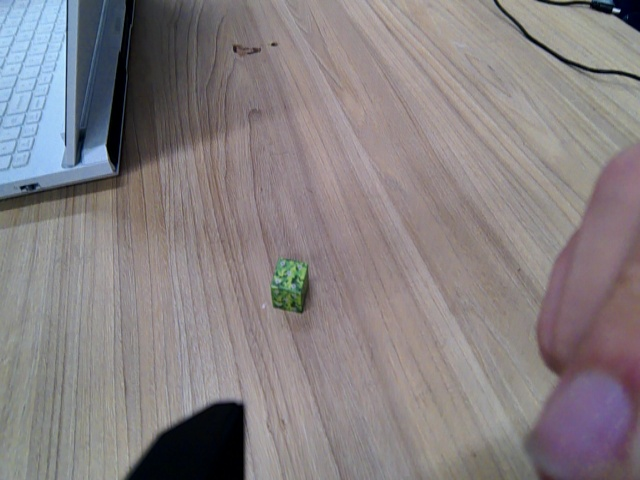grass: (272, 257, 309, 315)
